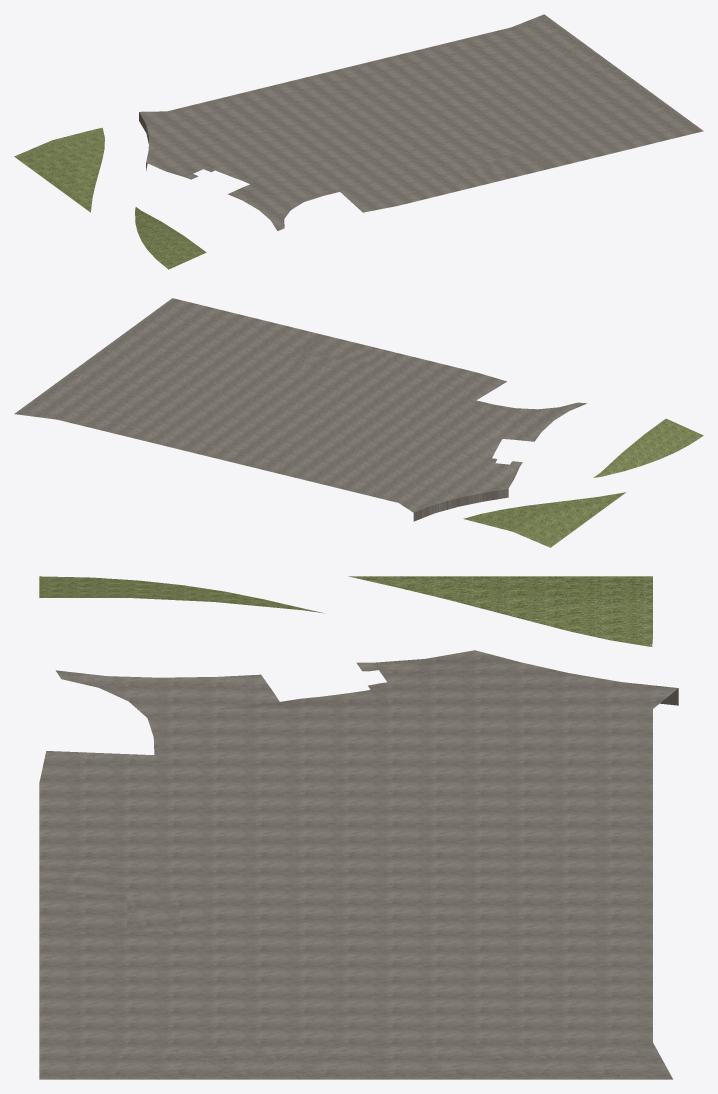
The model's file is vgssairportland03.obj.
3 views of the same model, one above another, from view 1: azimuth 30°, elevation 25°; view 2: azimuth 150°, elevation 25°; view 3: azimuth 270°, elevation 25° (orthographic). The views are drawn at different scales.
Parts seen in each view (by area): view 1: vgsSairportland03; view 2: vgsSairportland03; view 3: vgsSairportland03.
Part boxes in pixels (bbox=[...]): vgsSairportland03: bbox=[14, 14, 703, 269]; vgsSairportland03: bbox=[14, 298, 703, 547]; vgsSairportland03: bbox=[39, 576, 678, 1079].
Bounding box in the file's own units: 280 × 5.69 × 146.
Materials: 3 (3 with a texture image).
